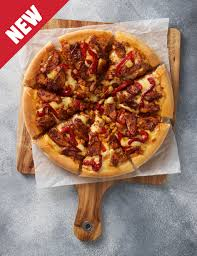pizza: (28, 31, 175, 173)
